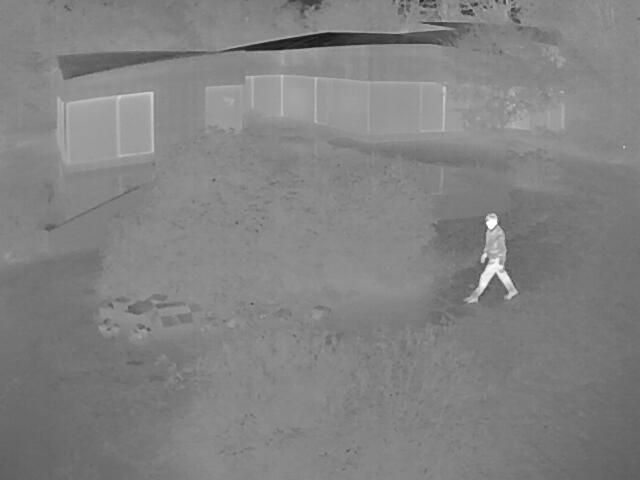person: (463, 211, 517, 302)
